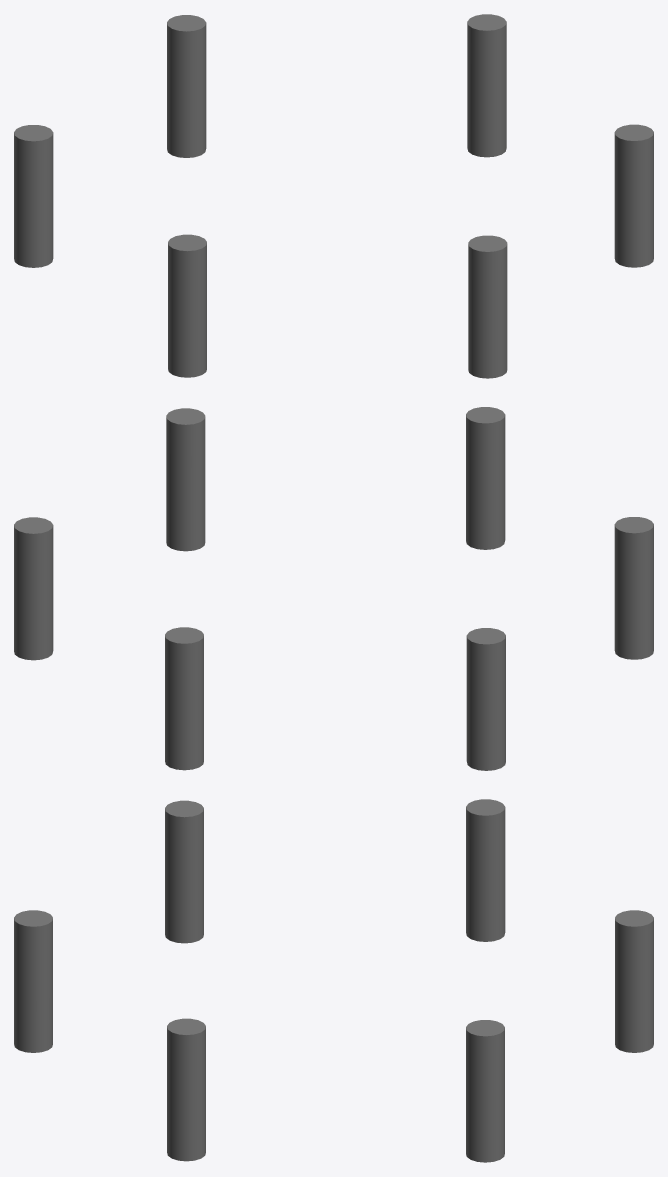
File: Cilindros.fbx
3 views of the same model, one above another, from view 1: azimuth 30°, elevation 25°; view 2: azimuth 150°, elevation 25°; view 3: azimuth 270°, elevation 25° (orthographic).
Visible parts, largest first — view 1: Cilindros_Base; view 2: Cilindros_Base; view 3: Cilindros_Base.
Boxes of the visible parts, x1=… form: Cilindros_Base: x1=14, y1=14, x2=653, y2=378; Cilindros_Base: x1=14, y1=407, x2=653, y2=770; Cilindros_Base: x1=14, y1=799, x2=653, y2=1162.
Size of the model in its own units: 84.59 by 21.05 by 96.52.
